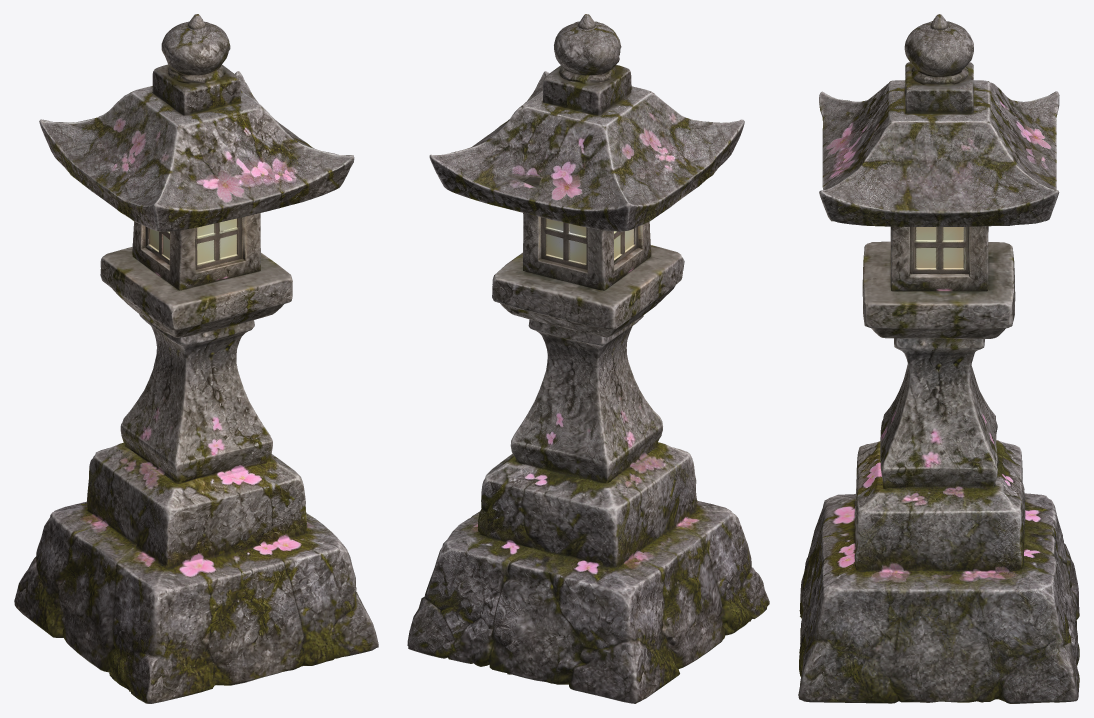
Rendered from Meshy_AI_Mosslit_Sakura_Lantern_20261118_texture.fbx.
3 views of the same model, side by side, from view 1: azimuth 30°, elevation 25°; view 2: azimuth 150°, elevation 25°; view 3: azimuth 270°, elevation 25° (orthographic). The views are drawn at different scales.
Parts seen in each view (by area): view 1: Mesh_0; view 2: Mesh_0; view 3: Mesh_0.
Part boxes in pixels (<box>): Mesh_0: <box>14,14,378,703</box>; Mesh_0: <box>407,14,769,703</box>; Mesh_0: <box>798,14,1079,703</box>.
Size of the model in its own units: 38.57 by 95.07 by 38.38.
1 material, 1 textured.
